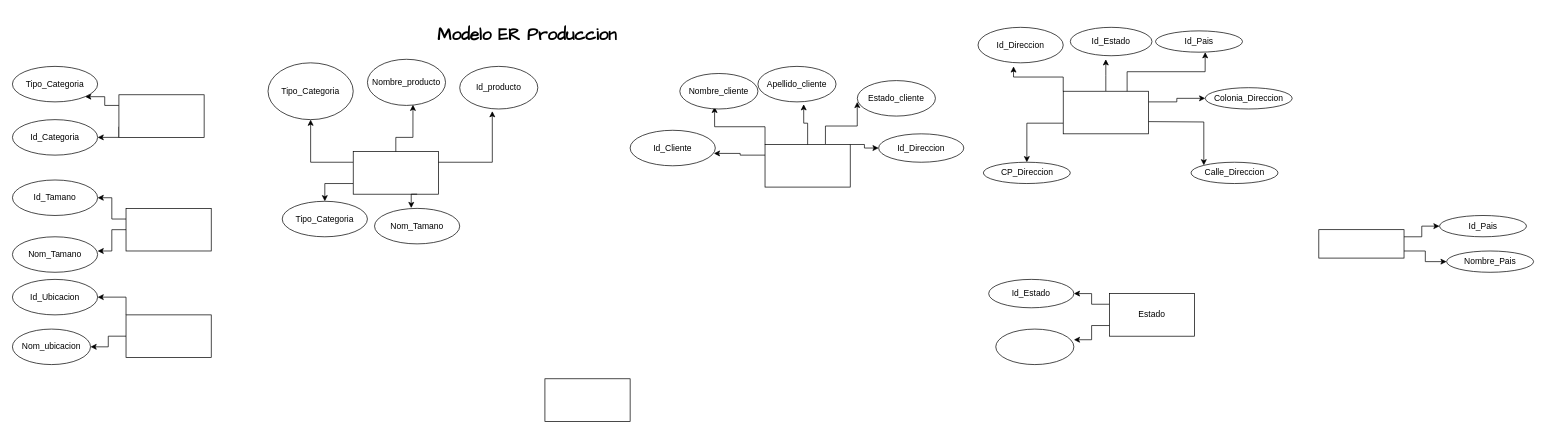
Some shapes in this 1546 by 434 pixel diagram are drawn without their labels. The shapes that lost their labels are listed below. From the top down, each one's centre as x and y in pixels, then its label:
At [161,115]: "Categoria".
At [1105,112]: "Direccion".
At [395,172]: "Producto".
At [807,165]: "Cliente".
At [168,229]: "Tamano".
At [1361,243]: "Pais".
At [168,335]: "Ubicacion".
At [1034,346]: "Nom_Estado".
At [587,399]: "Orden_Venta".
